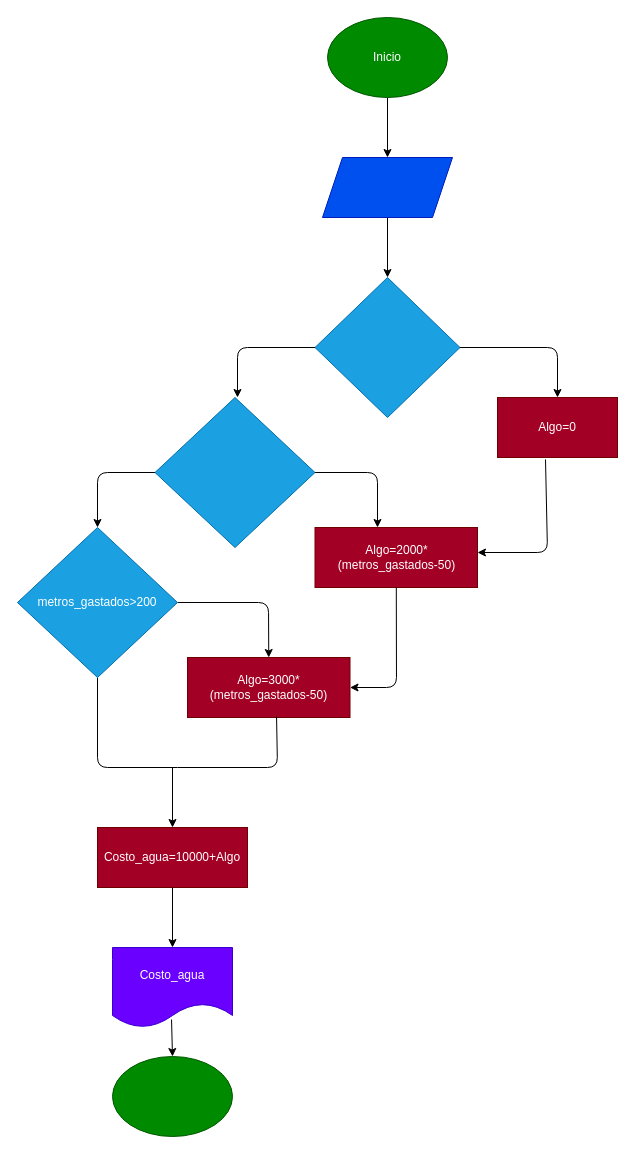
Some shapes in this 635 by 1154 pixel diagram are drawn without their labels. Here are the shapes that lost their labels. From the top down, the box of each, then its label:
(322, 156, 452, 218): Metros_gastados
(314, 276, 460, 418): metros_gastados<=50
(154, 396, 315, 548): metros_gastados>50 y <=200
(112, 1056, 232, 1136): Fin
